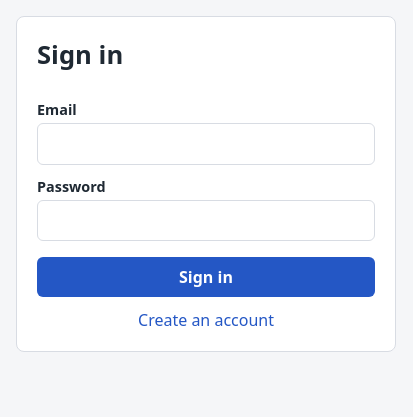
Scenario: LoginPage › switches to the registration form
The width and height of the screenshot is (413, 417).
Click the button "Create an account" at (206, 320), box top-left (37, 309), bottom-right (375, 331)
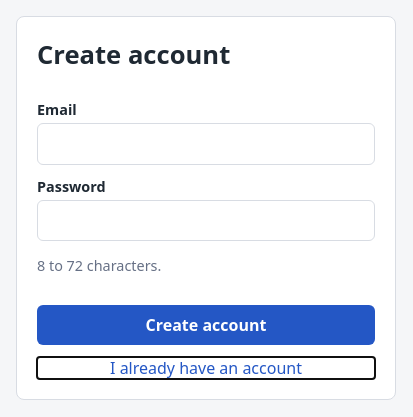
Result: the heading "Create account" is shown at top-left (37, 37), bottom-right (230, 72)
